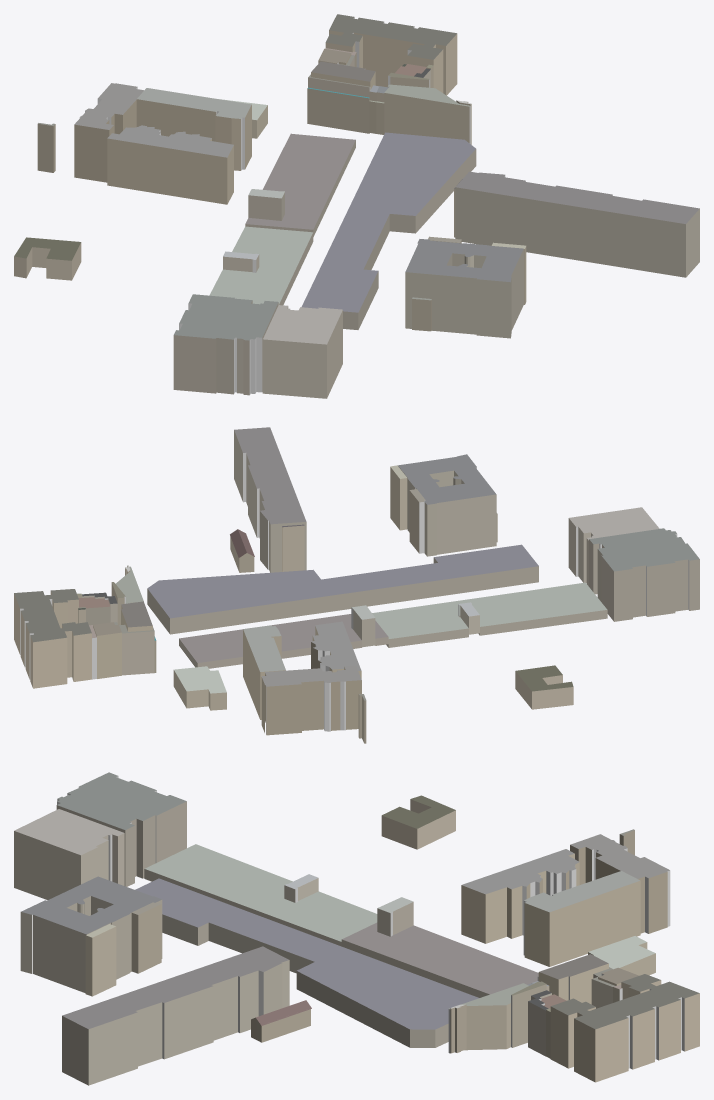
3 renders of one model, top to bottom at view 1: azimuth 30°, elevation 25°; view 2: azimuth 150°, elevation 25°; view 3: azimuth 270°, elevation 25°, orthographic. The views are drawn at different scales.
Parts seen in each view (by area): view 1: tuile; view 2: tuile; view 3: tuile.
Boxes of the visible parts, <box> form: tuile: <box>14,14,699,398</box>; tuile: <box>14,427,699,743</box>; tuile: <box>14,772,699,1085</box>.
Size of the model in its own units: 282 by 35.11 by 302.
